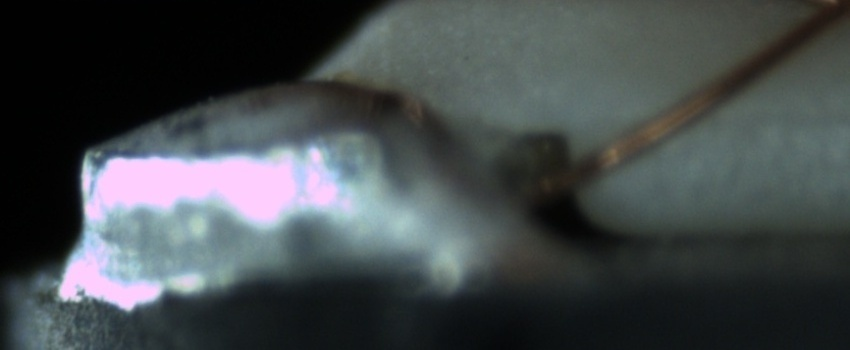DL: (695, 85, 849, 148)
